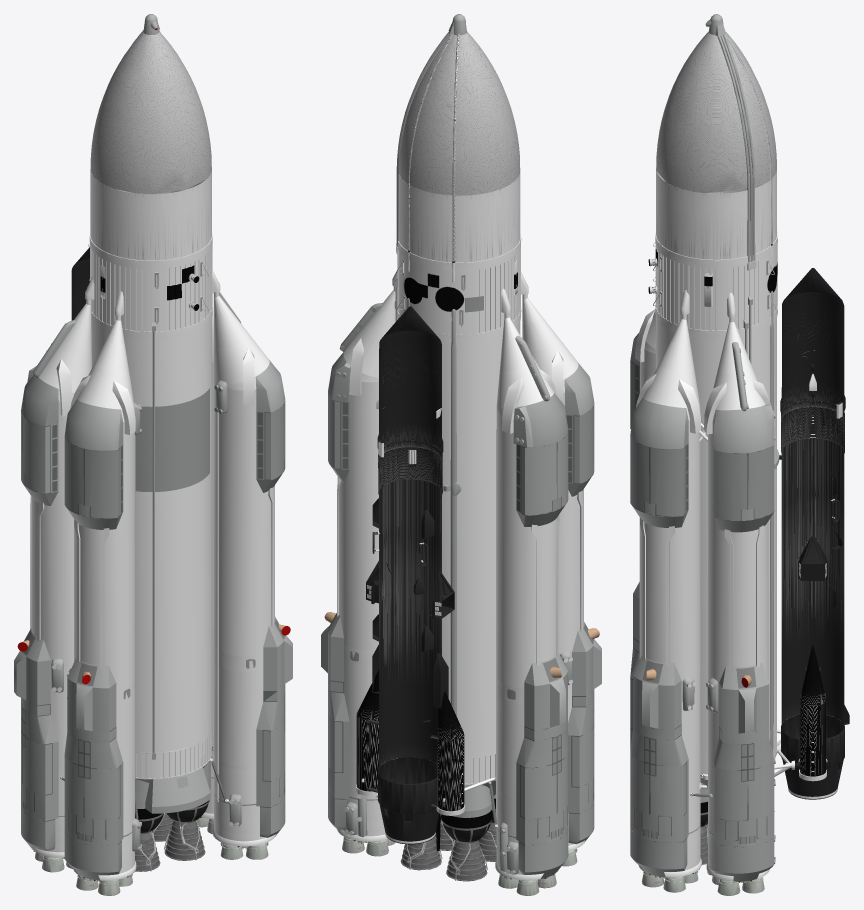
The model's file is energia-polyus.glb.
The picture shows the model from 3 angles, left to right: view 1: azimuth 30°, elevation 25°; view 2: azimuth 150°, elevation 25°; view 3: azimuth 270°, elevation 25°; orthographic projection.
Parts seen in each view (by area): view 1: 3D Поверхность3976, 3D Поверхность153, 3D Поверхность154, 3D Поверхность4931, 3D Поверхность4770, 3D Поверхность5862; view 2: 3D Поверхность3976, 3D Поверхность4770, 3D Поверхность153, 3D Поверхность154, 3D Поверхность2531, 3D Поверхность5862, 3D Поверхность99305, 3D Поверхность4931, 3D Поверхность2556; view 3: 3D Поверхность3976, 3D Поверхность4770, 3D Поверхность153, 3D Поверхность154, 3D Поверхность2531, 3D Поверхность5862, 3D Поверхность4931, 3D Поверхность99305, 3D Поверхность2556.
Boxes of the visible parts, box(x1,y1,x2,y2) form: 3D Поверхность3976: box(14, 14, 292, 895); 3D Поверхность153: box(90, 31, 211, 194); 3D Поверхность154: box(90, 169, 211, 260); 3D Поверхность4931: box(35, 817, 268, 895); 3D Поверхность4770: box(71, 247, 89, 320); 3D Поверхность5862: box(43, 813, 267, 885); 3D Поверхность3976: box(321, 14, 601, 895); 3D Поверхность4770: box(378, 306, 442, 768); 3D Поверхность153: box(399, 31, 519, 195); 3D Поверхность154: box(398, 168, 520, 262); 3D Поверхность2531: box(356, 670, 464, 811); 3D Поверхность5862: box(343, 397, 575, 885); 3D Поверхность99305: box(400, 253, 473, 334); 3D Поверхность4931: box(342, 837, 577, 895); 3D Поверхность2556: box(408, 34, 459, 261); 3D Поверхность3976: box(630, 14, 844, 893); 3D Поверхность4770: box(781, 268, 844, 725); 3D Поверхность153: box(656, 32, 776, 193); 3D Поверхность154: box(656, 167, 776, 259); 3D Поверхность2531: box(800, 643, 826, 776); 3D Поверхность5862: box(643, 364, 849, 885); 3D Поверхность4931: box(641, 872, 764, 895); 3D Поверхность99305: box(760, 244, 777, 322); 3D Поверхность2556: box(725, 32, 772, 243).
Size of the model in its own units: 17.69 by 58.75 by 14.05.
Materials: 12 (12 with a texture image).
